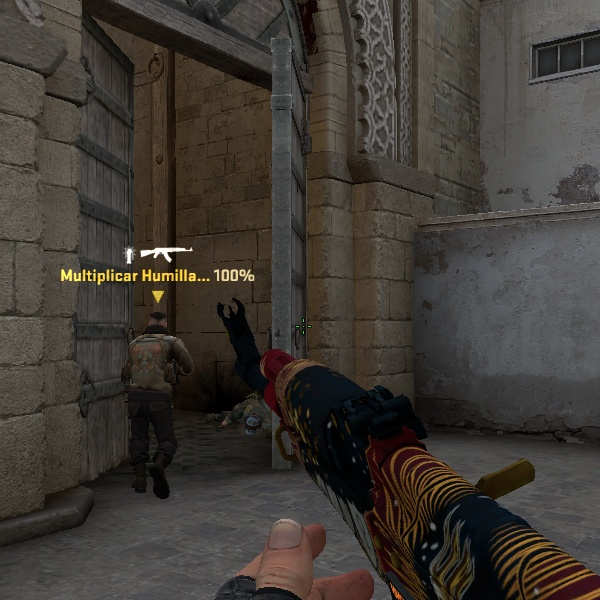t_body: (116, 307, 201, 499)
t_head: (137, 305, 178, 344)
